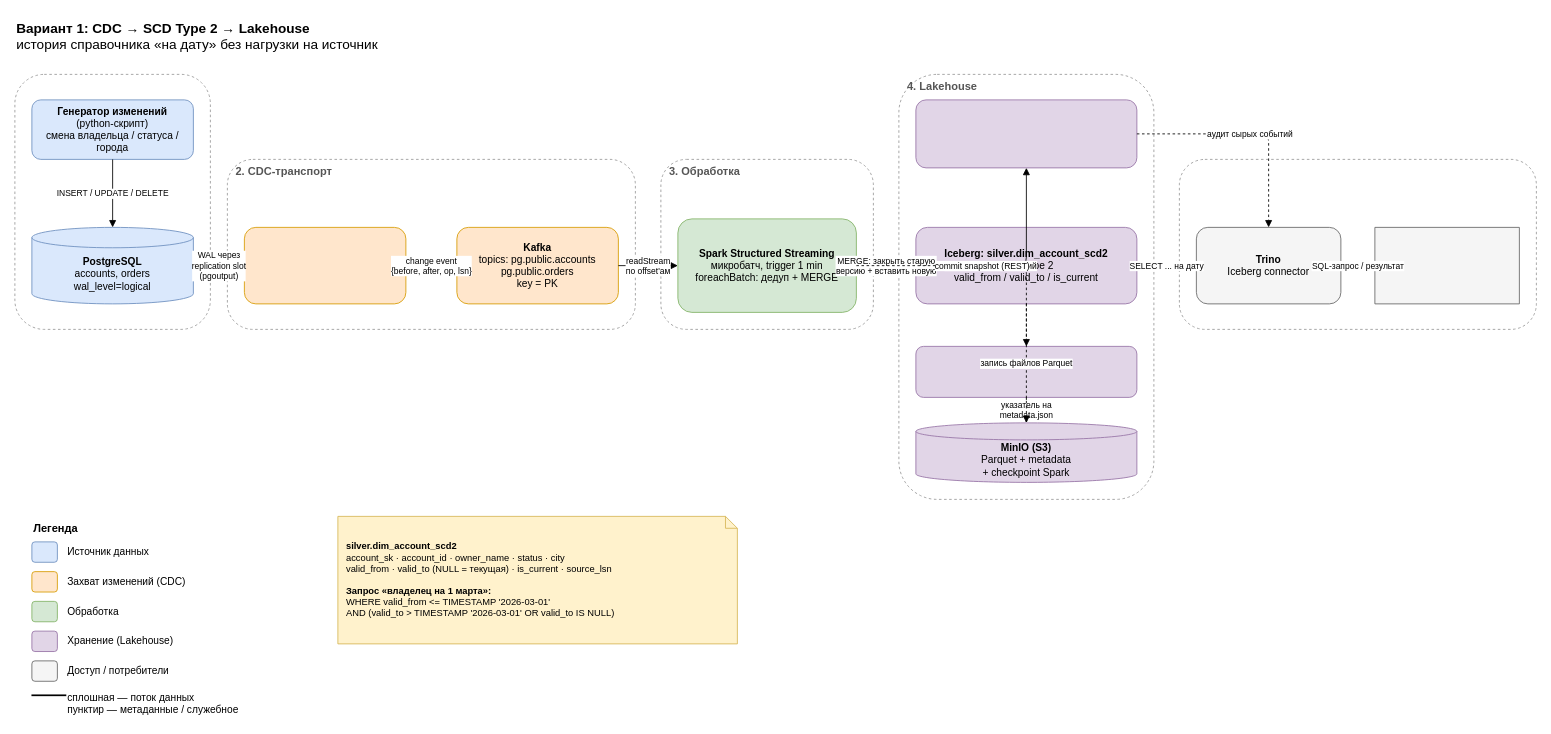
This 1551x734 diagram has some shape labels left out. The shapes that lost their labels are listed below. From the top down, each one's box as (x1, y1, x2, y2) in pixels, then its label:
(915, 99, 1137, 168): Iceberg: bronze.cdc_events сырые события (append) op, before, after, lsn, ts_ms
(14, 74, 210, 329): 1. Источник (OLTP)
(1179, 159, 1536, 329): 5. Потребители
(244, 227, 406, 304): Debezium (Kafka Connect) PostgresConnector
(1374, 227, 1519, 304): Бухгалтерия / аналитики DBeaver, BI
(915, 346, 1137, 397): Lakekeeper Iceberg REST Catalog
